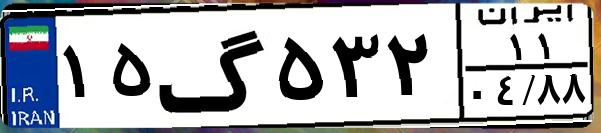0: (470, 70, 495, 125)
1: (57, 26, 110, 100), (537, 27, 568, 80), (508, 27, 537, 80)
2: (385, 28, 445, 110)
3: (330, 28, 385, 110)
4: (495, 70, 520, 125)
5: (270, 28, 330, 110), (110, 28, 156, 98)
8: (560, 70, 590, 125), (535, 70, 560, 125)
گ: (156, 12, 270, 120)
